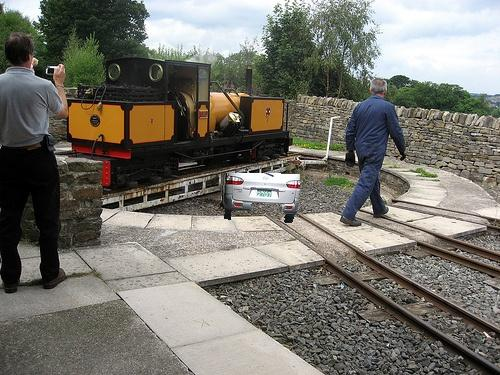tampered: (221, 174, 300, 223)
